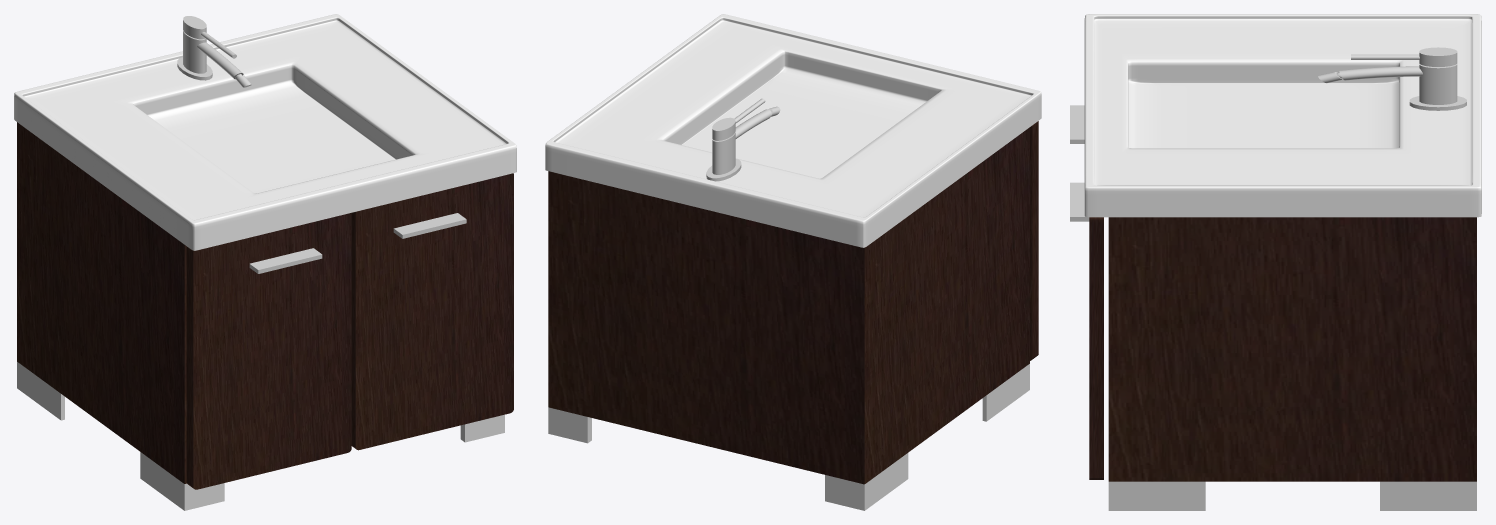
File: sh-lp-mobiletto-lavabo-wenge.glb
3 views of the same model, side by side, from view 1: azimuth 30°, elevation 25°; view 2: azimuth 150°, elevation 25°; view 3: azimuth 270°, elevation 25° (orthographic). The views are drawn at different scales.
Visible parts, largest first — view 1: Rectangle10_4, Rectangle09_9, Line04_2, Box02_1; view 2: Rectangle10_4, Rectangle09_9, Line04_2, Box02_1; view 3: Rectangle10_4, Rectangle09_9, Line04_2, Box02_1.
Part boxes in pixels (x1,y1,x2,y2): Rectangle10_4: [17, 122, 513, 489]; Rectangle09_9: [14, 14, 516, 250]; Line04_2: [17, 362, 504, 510]; Box02_1: [177, 16, 466, 273]; Rectangle10_4: [548, 121, 1038, 484]; Rectangle09_9: [545, 14, 1041, 247]; Line04_2: [548, 364, 1029, 510]; Box02_1: [706, 98, 780, 181]; Rectangle10_4: [1089, 217, 1476, 481]; Rectangle09_9: [1084, 14, 1481, 217]; Line04_2: [1108, 481, 1476, 510]; Box02_1: [1070, 47, 1466, 221].
Size of the model in its own units: 1 by 1 by 1.
Materials: 4 (1 with a texture image).
